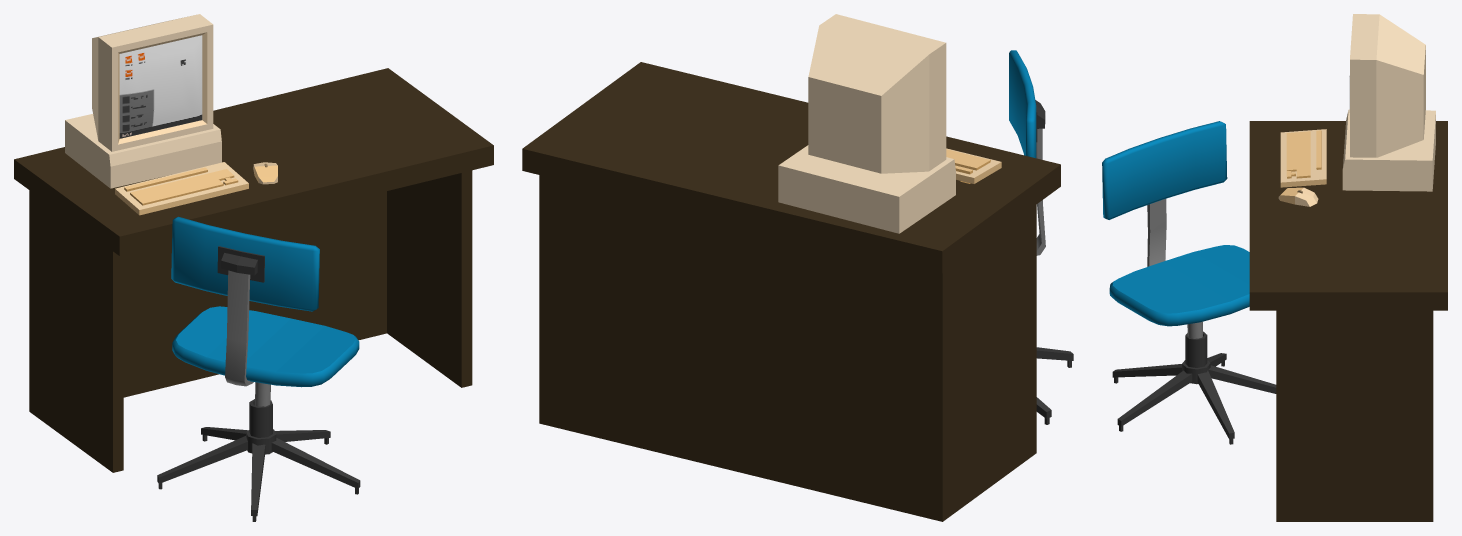
Rendered from employee_workstation.glb.
3 renders of one model, left to right at view 1: azimuth 30°, elevation 25°; view 2: azimuth 150°, elevation 25°; view 3: azimuth 270°, elevation 25°, orthographic. The views are drawn at different scales.
Visible parts, largest first — view 1: Office_Desk_1, Chair_Office_Base_A, Computer_Old, Chair_Office_Bottom, Computer_Old_Keyboard; view 2: Office_Desk_1, Computer_Old, Chair_Office_Base_A, Computer_Old_Keyboard, Chair_Office_Bottom; view 3: Office_Desk_1, Chair_Office_Base_A, Computer_Old, Chair_Office_Bottom, Computer_Old_Keyboard, Computer_old_mouse.
Part boxes in pixels (<box>): Office_Desk_1: <box>14,68,493,472</box>; Chair_Office_Base_A: <box>171,216,359,406</box>; Computer_Old: <box>65,14,221,188</box>; Chair_Office_Bottom: <box>157,399,360,521</box>; Computer_Old_Keyboard: <box>115,162,248,215</box>; Office_Desk_1: <box>522,62,1060,521</box>; Computer_Old: <box>778,14,955,233</box>; Chair_Office_Base_A: <box>1009,50,1045,255</box>; Computer_Old_Keyboard: <box>946,148,1001,183</box>; Chair_Office_Bottom: <box>1036,347,1073,424</box>; Office_Desk_1: <box>1249,121,1447,521</box>; Chair_Office_Base_A: <box>1102,121,1249,338</box>; Computer_Old: <box>1342,14,1435,191</box>; Chair_Office_Bottom: <box>1112,331,1276,444</box>; Computer_Old_Keyboard: <box>1280,129,1326,187</box>; Computer_old_mouse: <box>1278,187,1318,206</box>.
Bounding box in the file's own units: 1.5 × 1.48 × 1.28.
7 materials, 7 textured.
